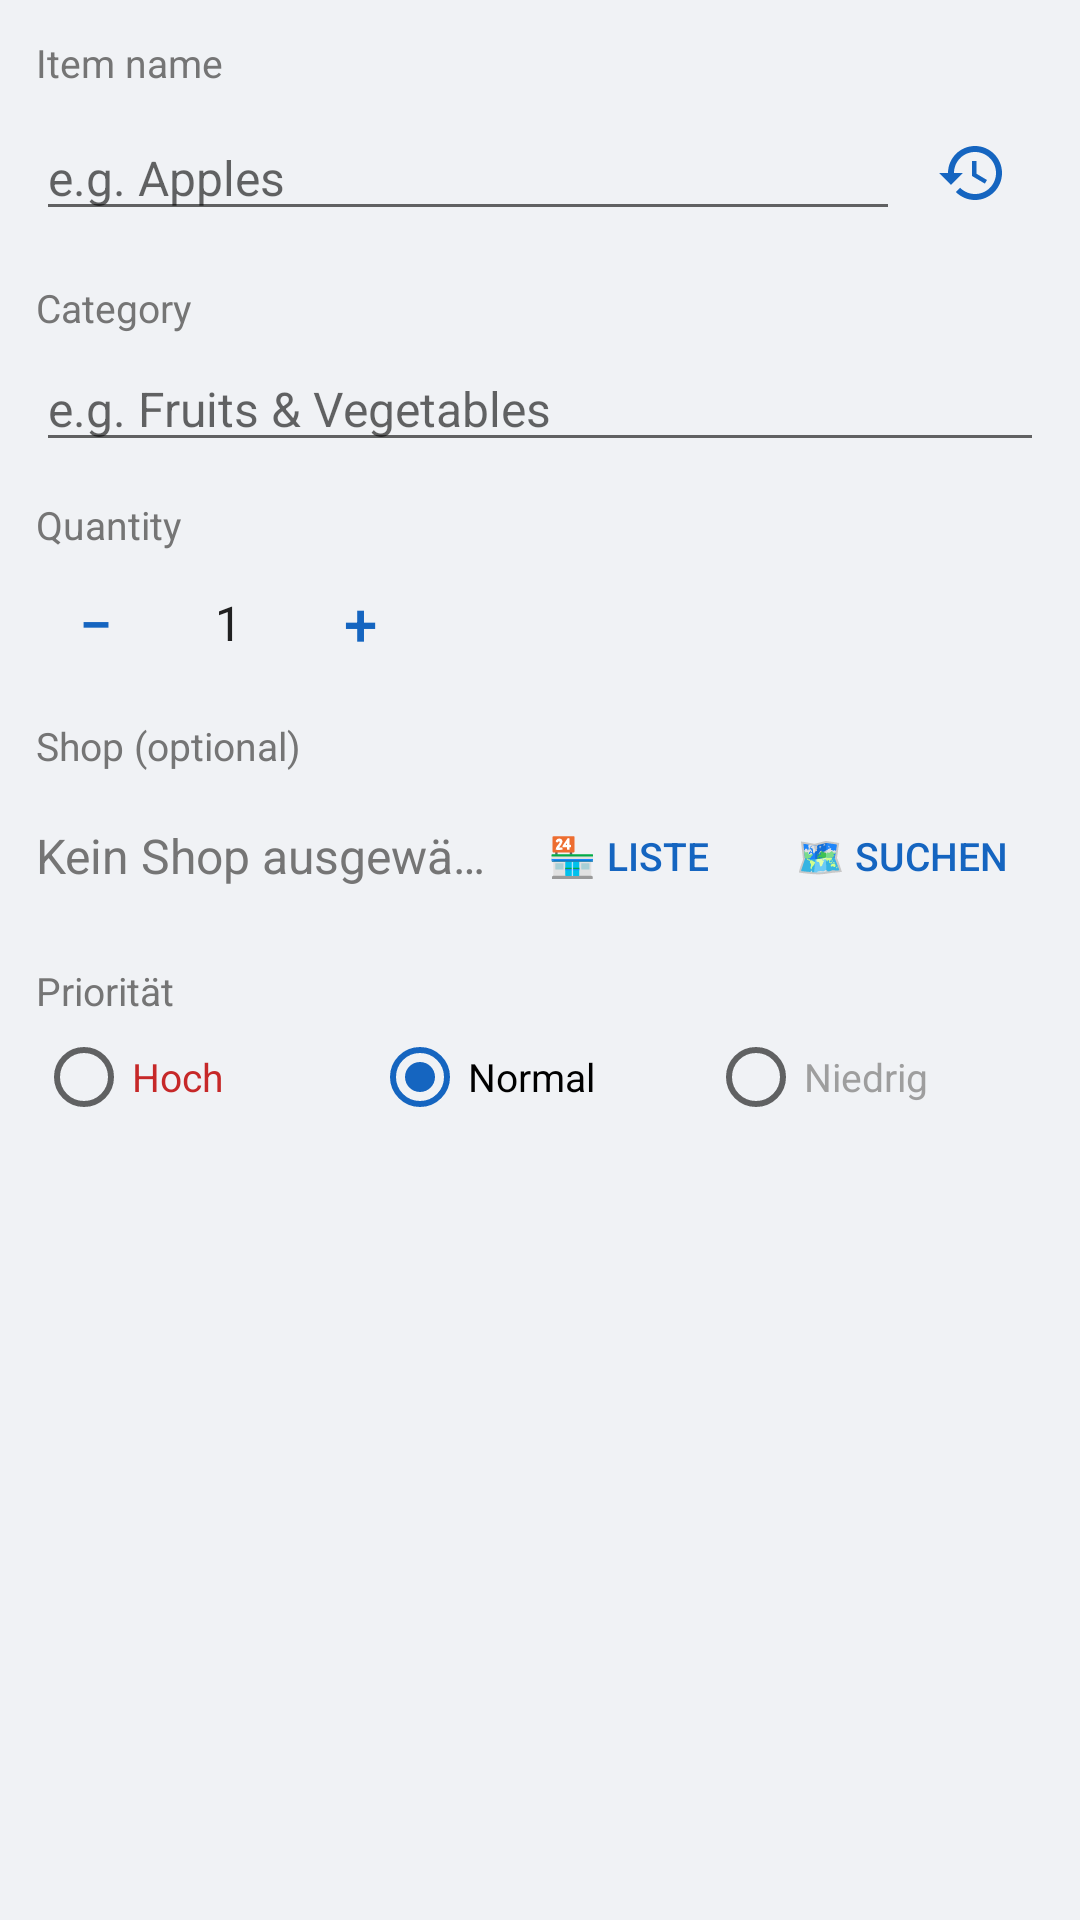

Screen size 1080px x 1920px. Icon name, then its center in pixels as (x,y):
Select from previously used items: (970,173)
